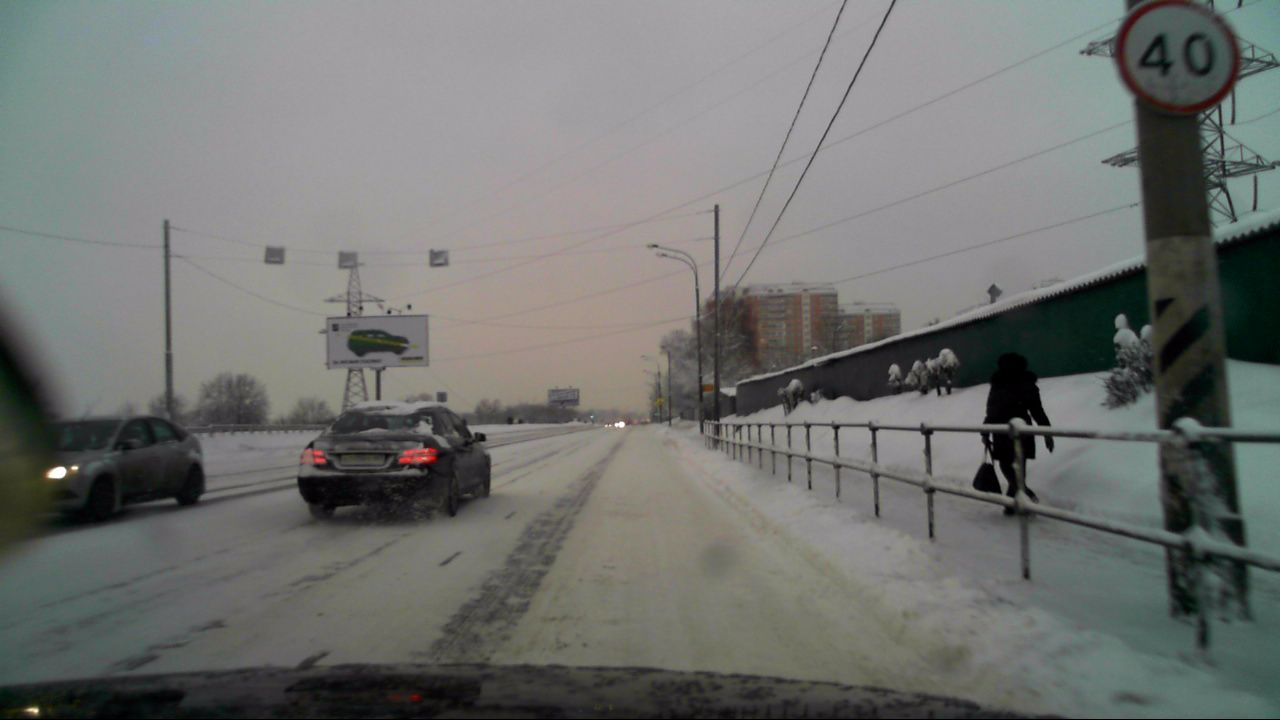speed_warning_40: (1112, 0, 1244, 117)
